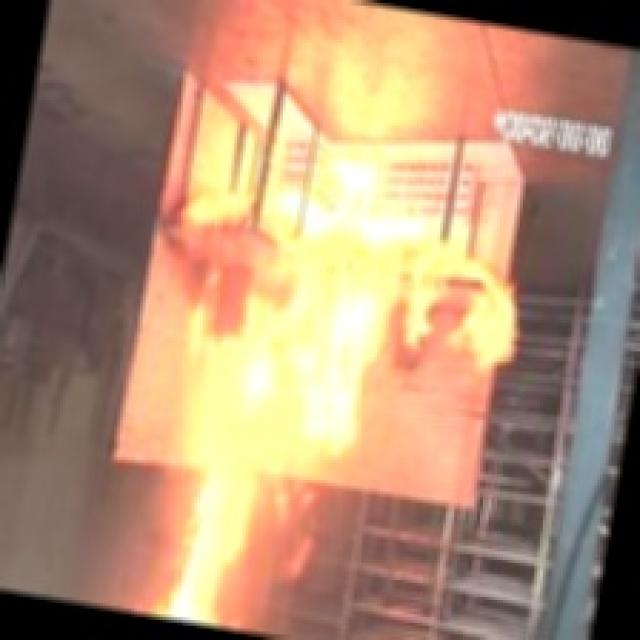fire: (103, 111, 540, 640)
